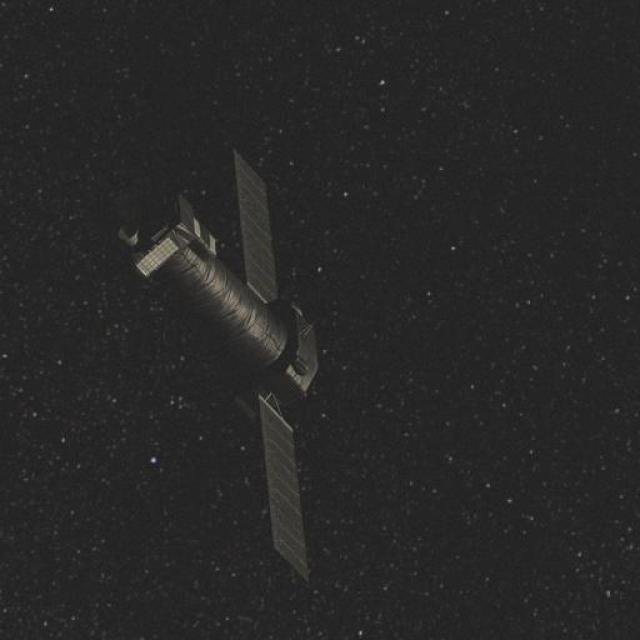xmm_newton: (128, 179, 382, 590)
